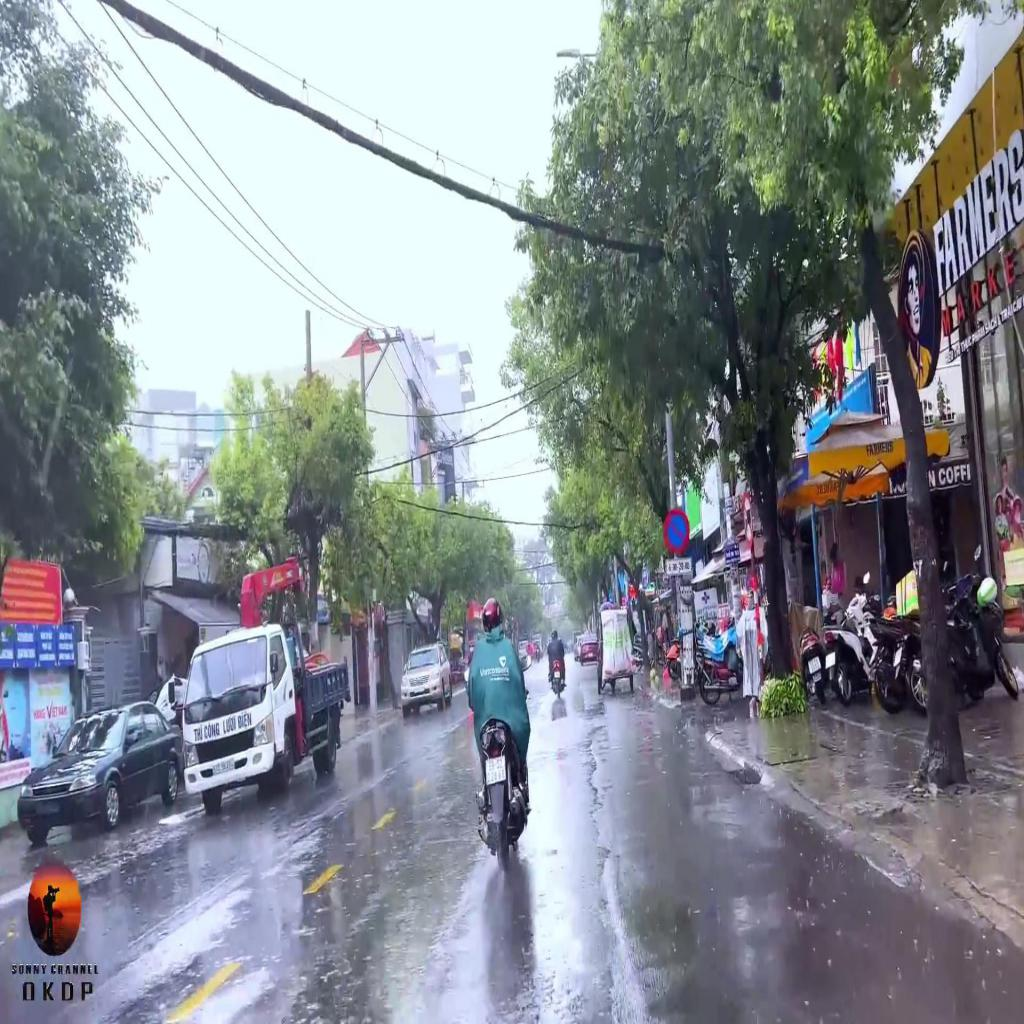cam_do_xe: (662, 508, 690, 555)
khac: (665, 560, 692, 576)
